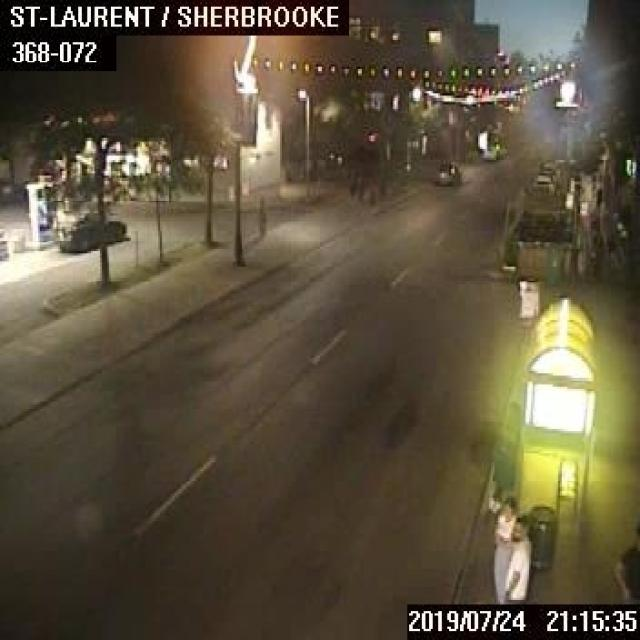construction: (368, 180, 377, 204)
pedestrian: (487, 400, 522, 509), (491, 498, 514, 604), (504, 516, 532, 602), (615, 520, 638, 602), (591, 180, 602, 216), (256, 194, 265, 234), (355, 169, 364, 198), (346, 165, 354, 194)
vehicle: (53, 207, 125, 249), (433, 160, 462, 184), (482, 140, 507, 158), (531, 174, 553, 194)
